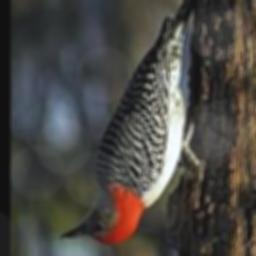Woodpecker: (61, 0, 199, 246)
